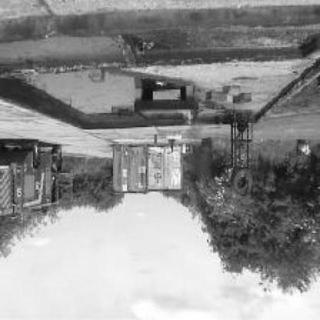Fire: (175, 110, 197, 126)
Smoke: (186, 150, 217, 184)
